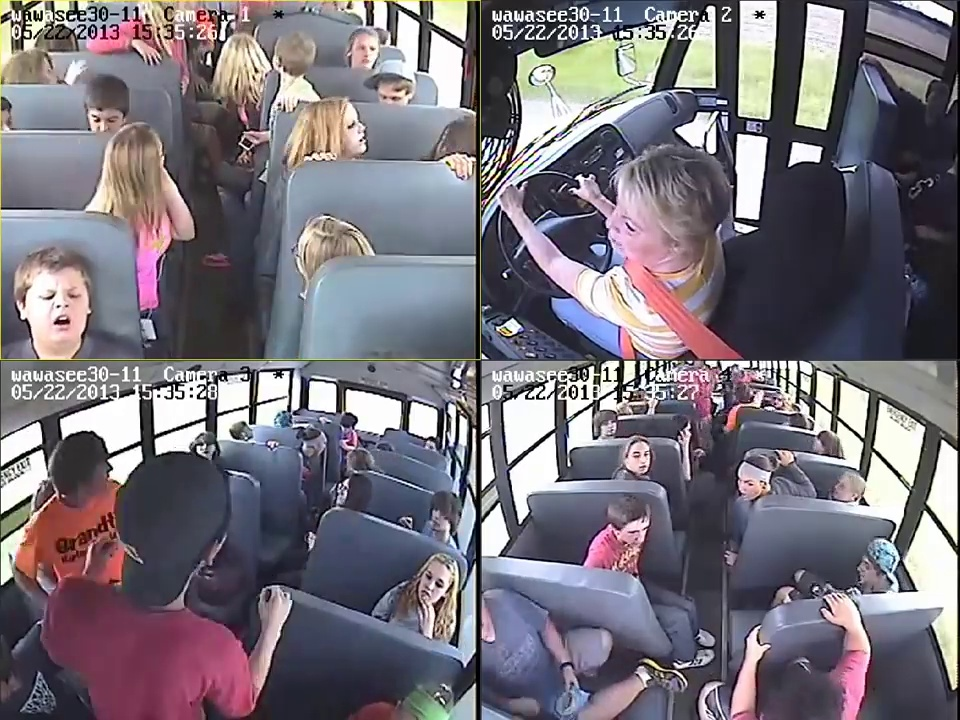face: (29, 276, 84, 339), (605, 194, 652, 265), (335, 103, 367, 157), (87, 104, 124, 131), (421, 563, 446, 601), (352, 36, 378, 68), (623, 519, 649, 548), (630, 444, 652, 473), (857, 554, 877, 585), (430, 505, 451, 533), (830, 477, 852, 498), (194, 437, 215, 458), (737, 477, 755, 499), (381, 85, 407, 100), (600, 417, 615, 434)
